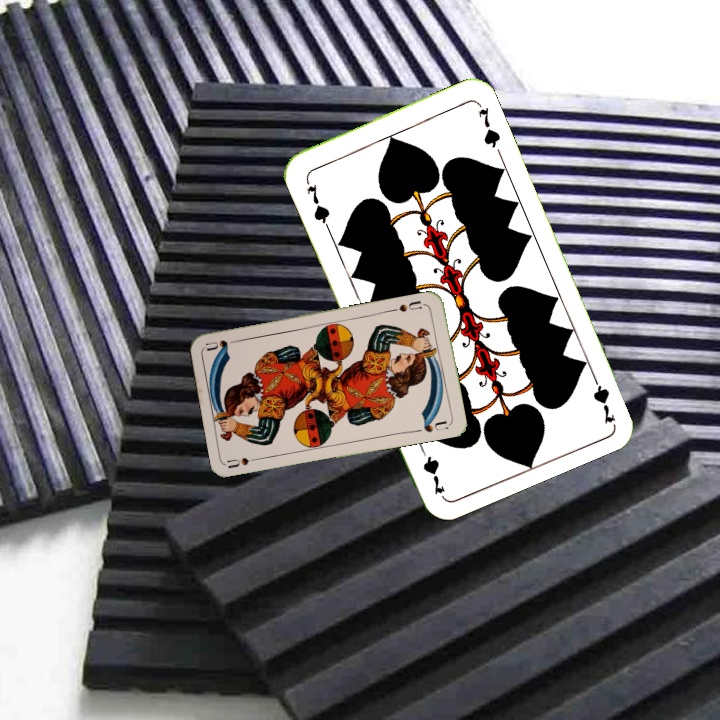G7: (586, 367, 619, 426), (302, 180, 333, 230)
SU: (224, 453, 265, 471), (395, 296, 424, 314)
